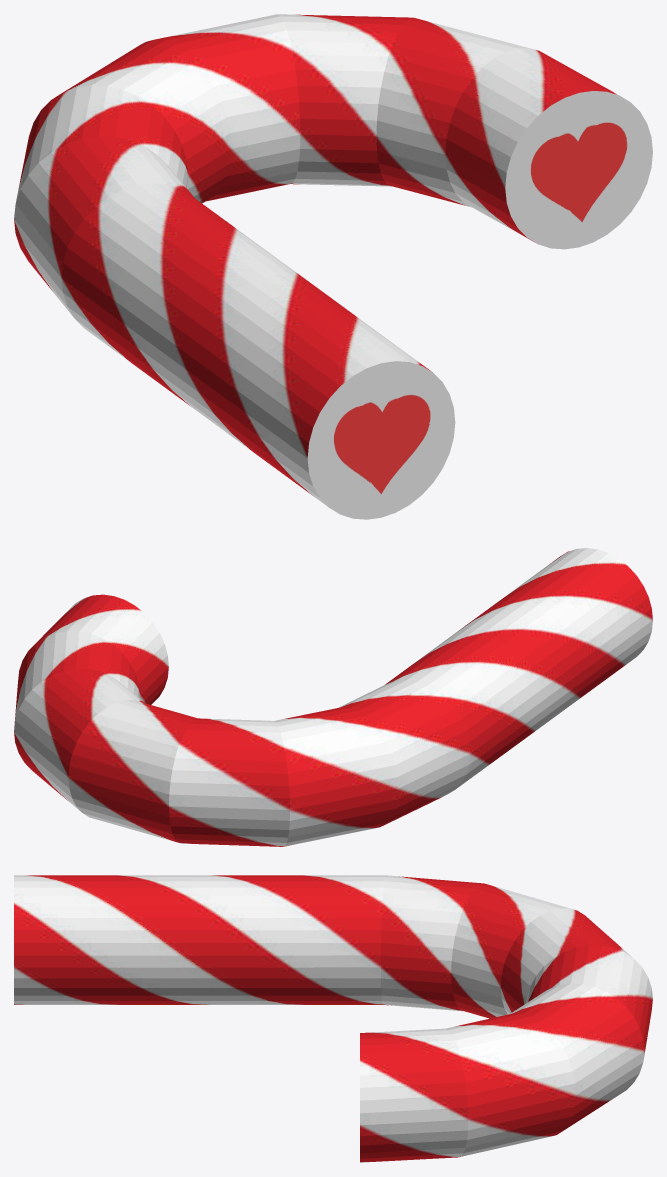
File: CandyCane.fbx
3 renders of one model, top to bottom at view 1: azimuth 30°, elevation 25°; view 2: azimuth 150°, elevation 25°; view 3: azimuth 270°, elevation 25°, orthographic. The views are drawn at different scales.
Visible parts, largest first — view 1: CandyCane; view 2: CandyCane; view 3: CandyCane.
Part boxes in pixels (left/top/right/bottom): CandyCane: left=14, top=14, right=652, bottom=519; CandyCane: left=14, top=548, right=652, bottom=846; CandyCane: left=14, top=875, right=652, bottom=1162.
Bounding box in the file's own units: 5.43 × 1.4 × 6.9.
